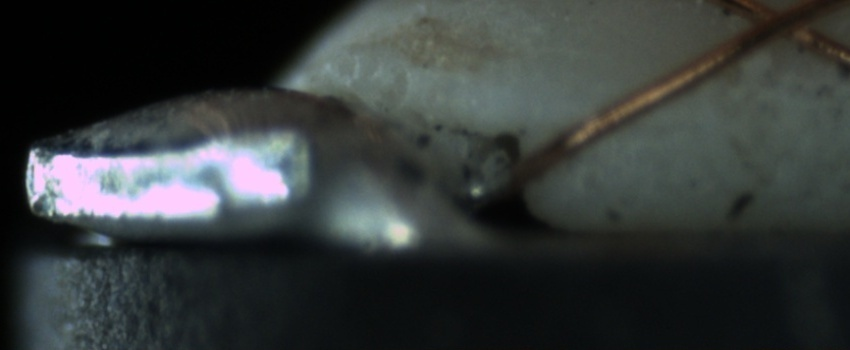CL: (722, 1, 838, 48)
